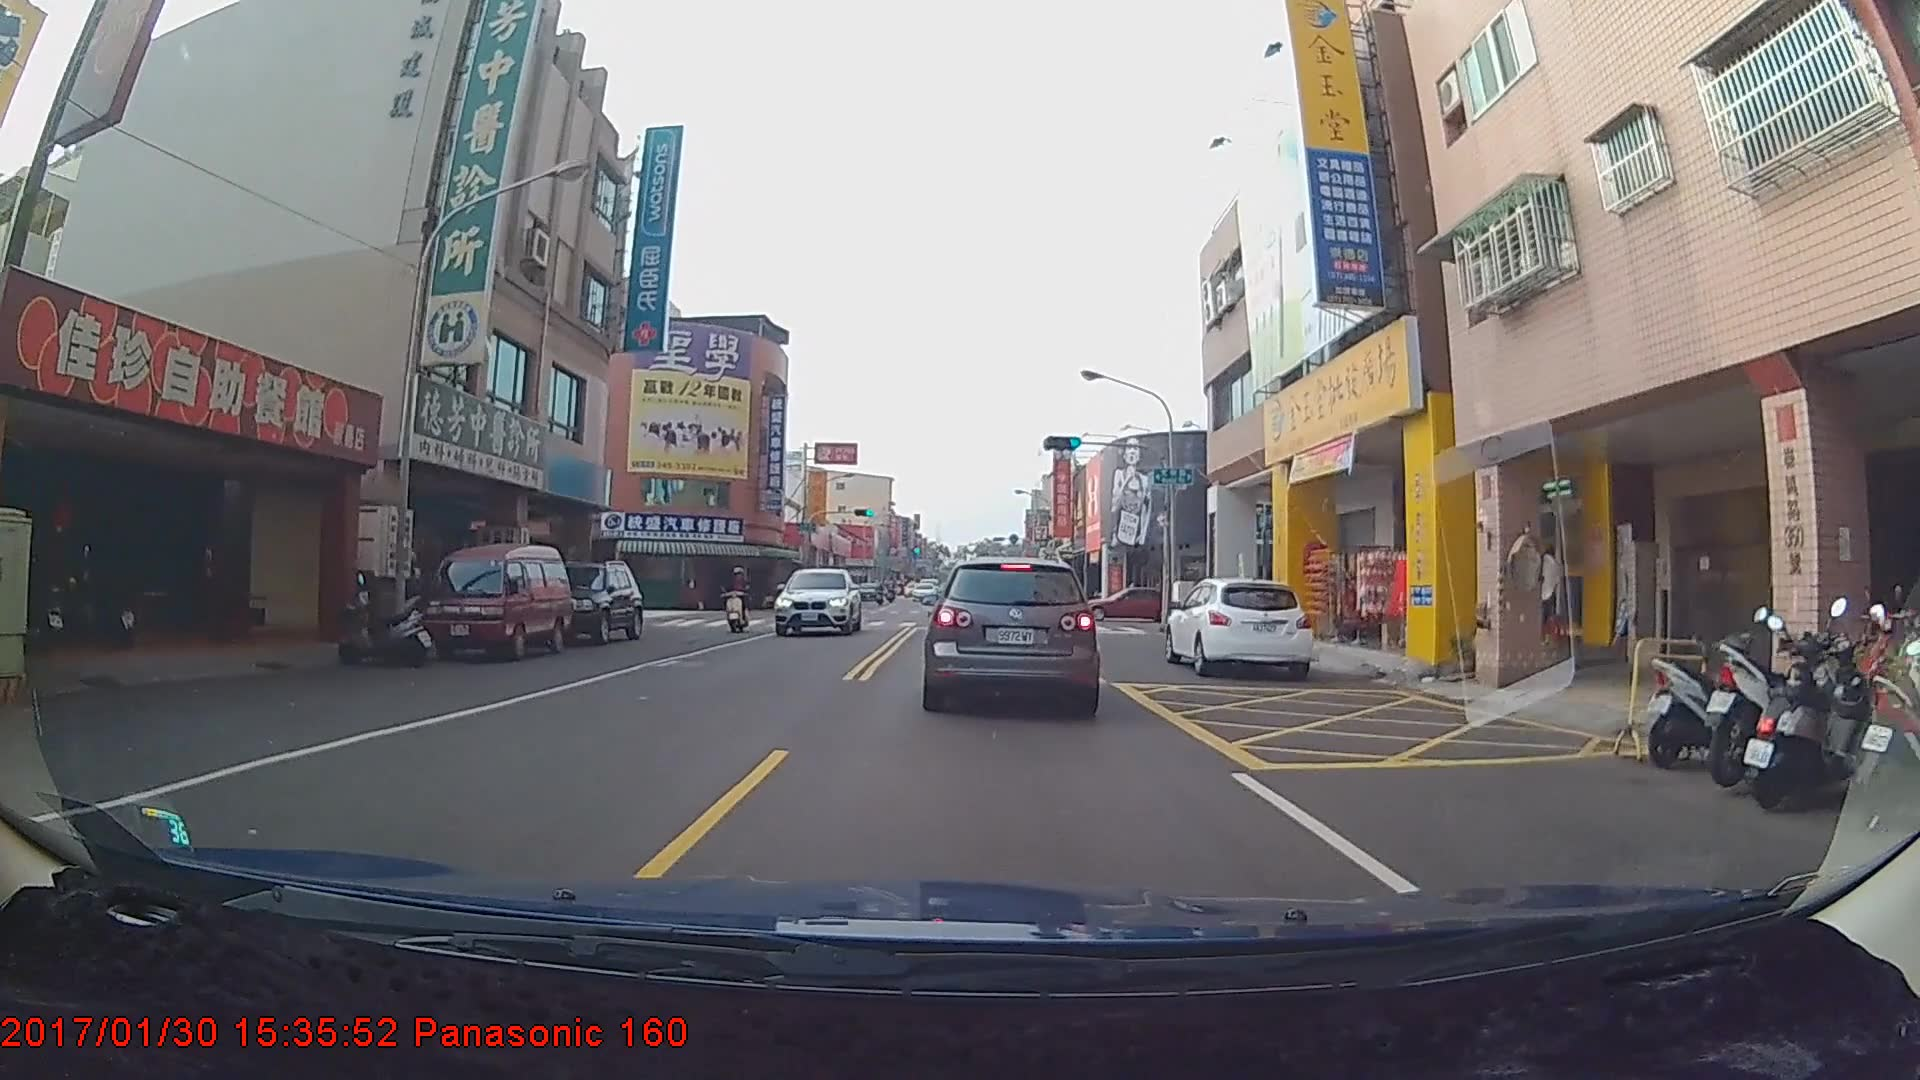rider: (717, 560, 759, 632)
vehicle: (921, 554, 1101, 711), (421, 538, 570, 657), (1166, 573, 1314, 679), (529, 557, 642, 643), (781, 557, 864, 632), (1076, 588, 1186, 621), (912, 577, 937, 597)
